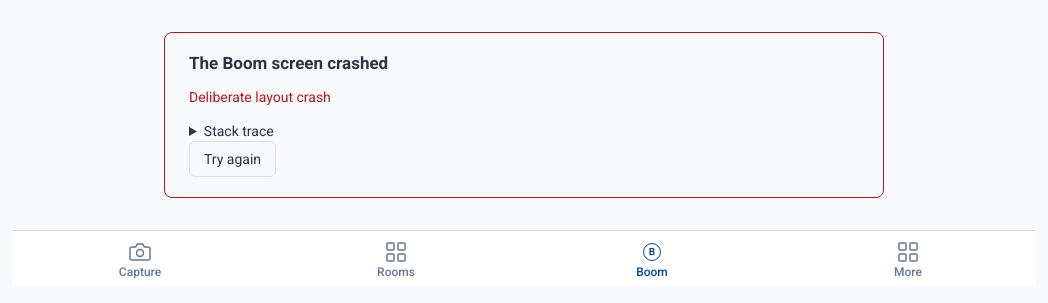
Test: AppShell navigation semantics › a crashing screen is contained by its boundary and the nav still works
The image size is (1048, 303).
Expected: the message shows "The Boom screen crashed", left=164, top=32, right=884, bottom=198
Click the tab "Rooms" at point(396, 259), box left=268, top=231, right=524, bottom=286
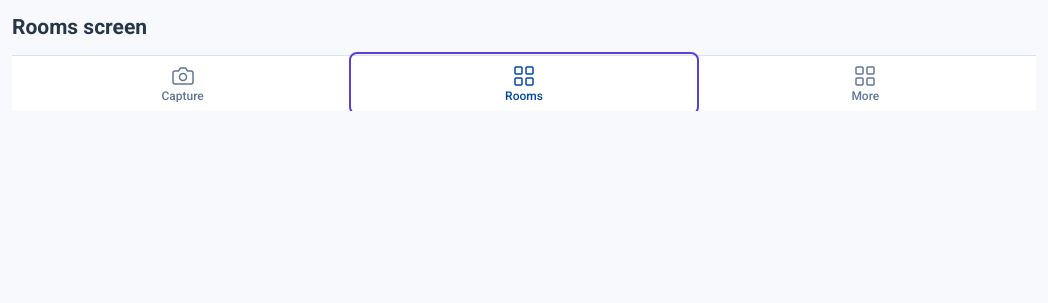
Now the heading "Rooms screen" is shown, box left=12, top=15, right=147, bottom=39
Now the message "The Boom screen crashed Deliberate layout crash Stack trace Try again" is gone
